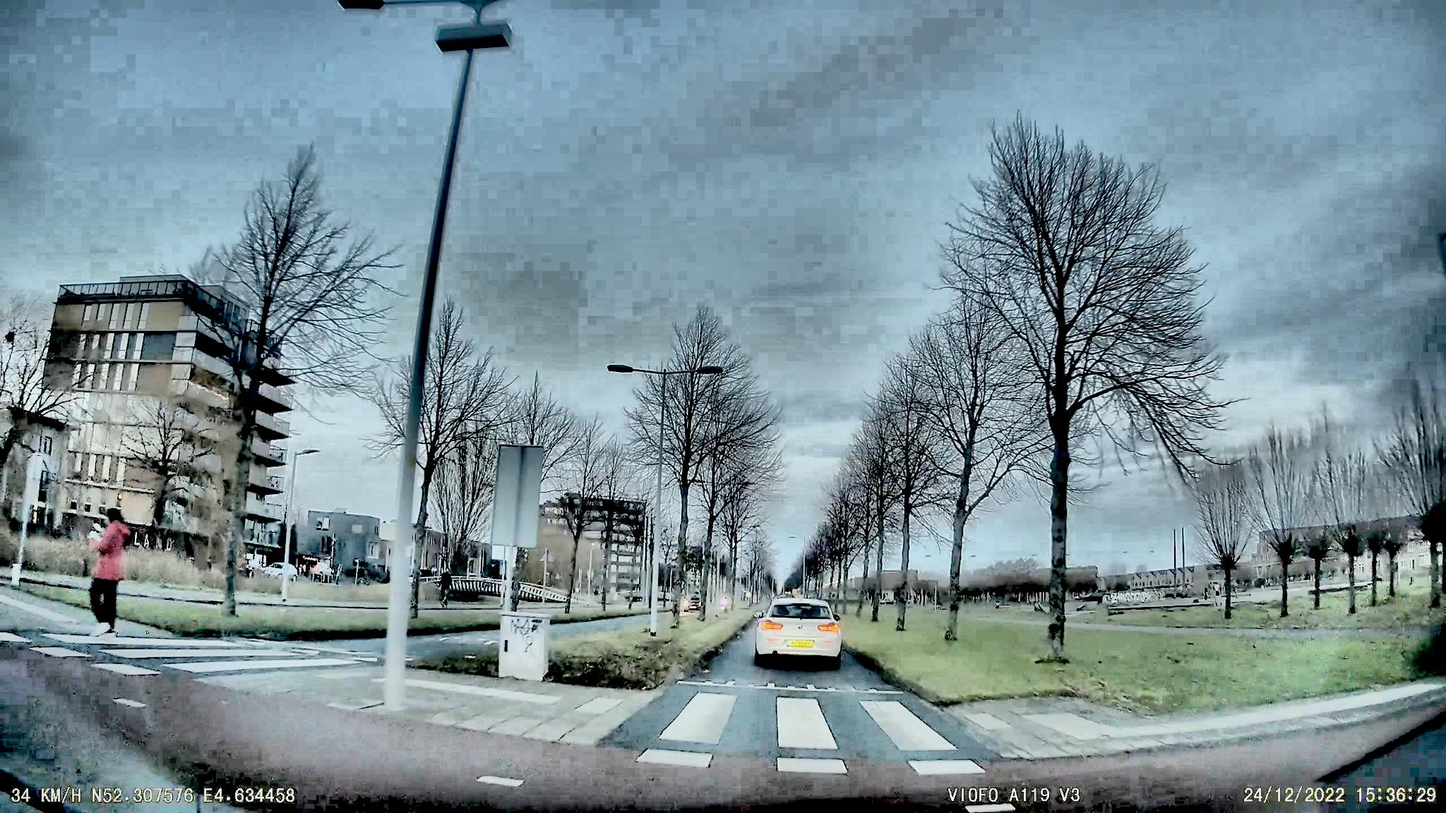Roads: (0, 644, 1435, 813)
